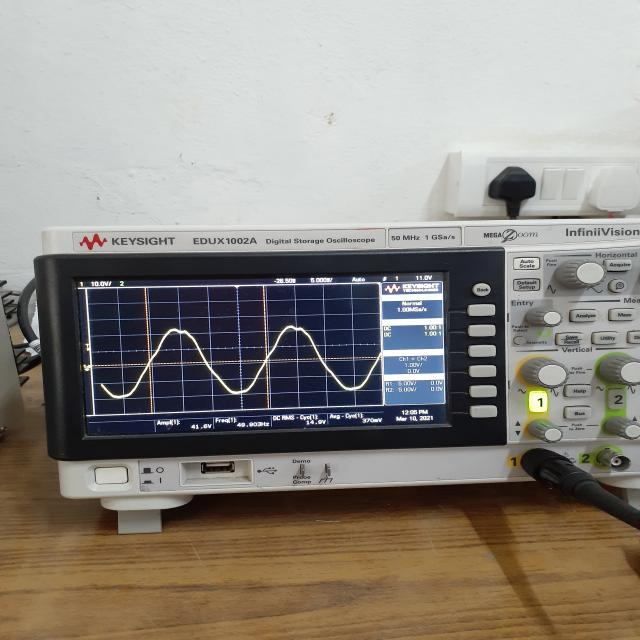metal: (25, 212, 640, 544)
plastic: (449, 140, 640, 223), (523, 444, 640, 540), (516, 349, 580, 401)
